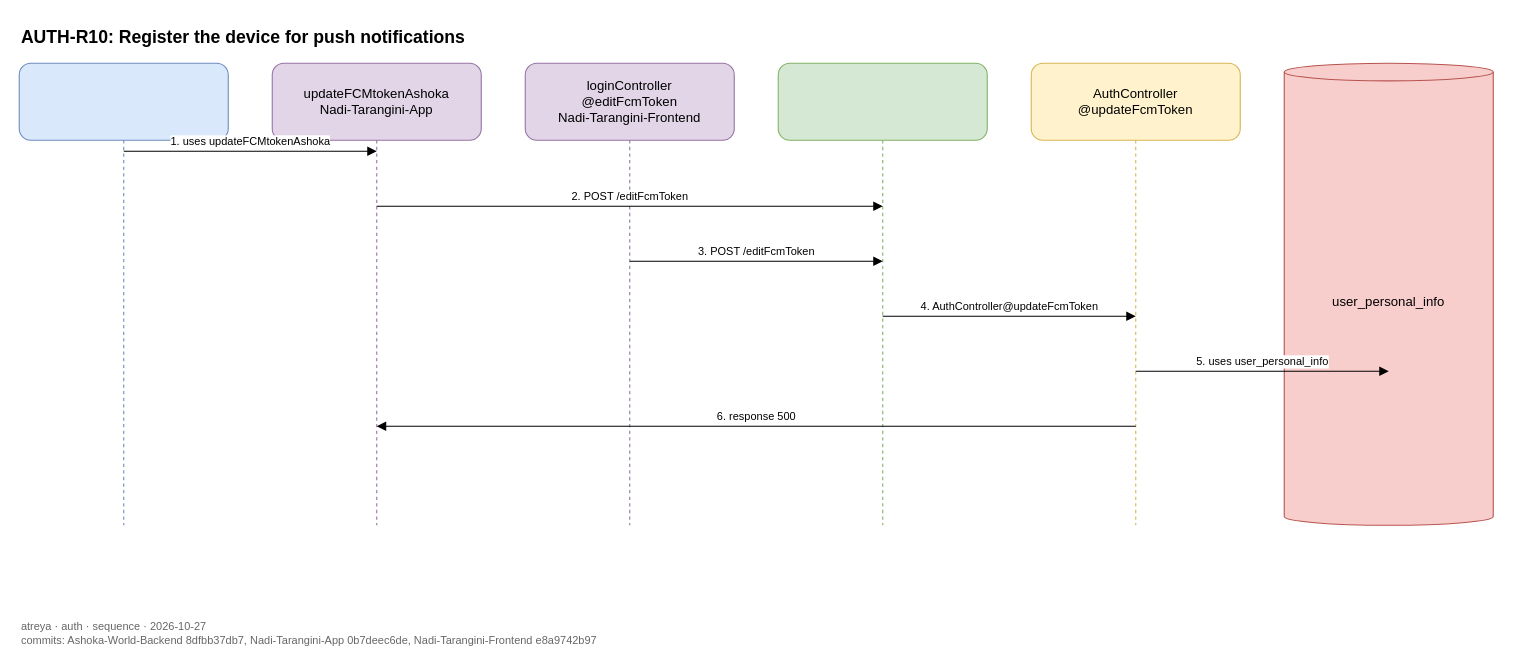
Image size: 1513x671. Some labels were removed from this diagram. Here are the shapes that lost their labels. From the top down, the box of each, then its label:
(18, 62, 228, 525): 2 screens LoginWithOtpScreen, LoginWithUsernameScreen
(777, 62, 987, 525): POST editFcmToken
